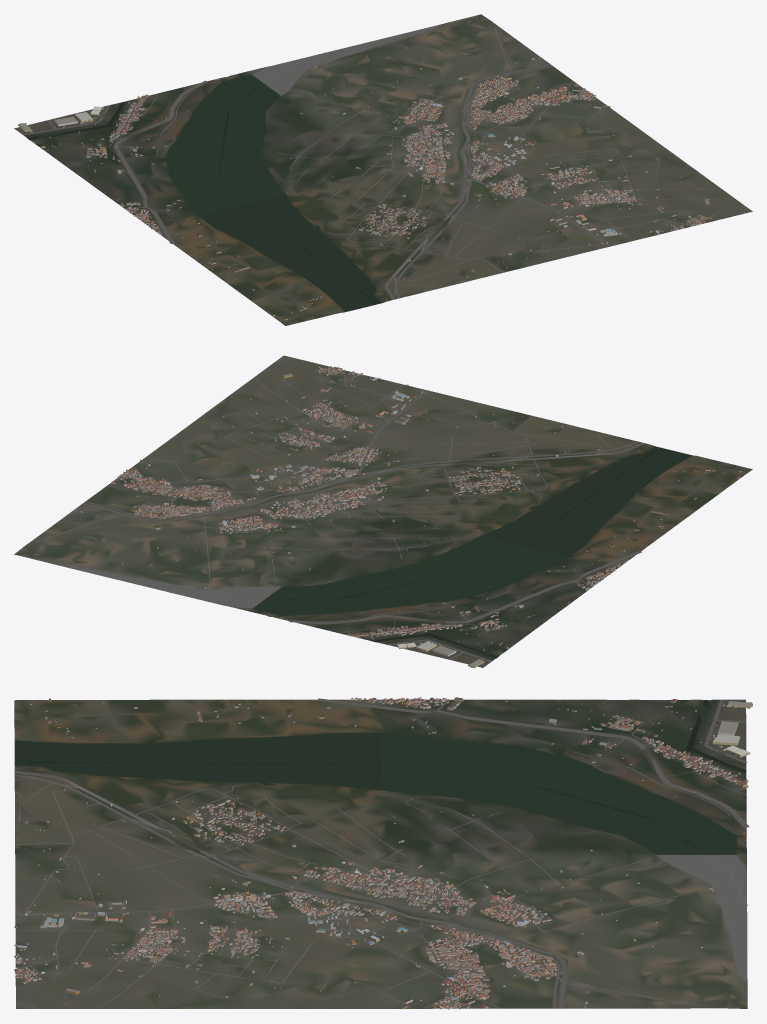
The picture shows the model from 3 angles, top to bottom: view 1: azimuth 30°, elevation 25°; view 2: azimuth 150°, elevation 25°; view 3: azimuth 270°, elevation 25°; orthographic projection. The views are drawn at different scales.
Visible parts, largest first — view 1: ground, water, buildings, roads; view 2: ground, water, buildings, roads; view 3: ground, water, buildings, roads.
Part boxes in pixels (bbox=[...]): ground: bbox=[14, 14, 752, 325]; water: bbox=[28, 24, 441, 311]; buildings: bbox=[18, 47, 712, 320]; roads: bbox=[22, 28, 744, 299]; ground: bbox=[14, 355, 752, 667]; water: bbox=[54, 446, 692, 657]; buildings: bbox=[74, 366, 741, 668]; roads: bbox=[36, 358, 644, 661]; ground: bbox=[14, 699, 747, 1008]; water: bbox=[14, 700, 747, 982]; buildings: bbox=[14, 697, 752, 1009]; roads: bbox=[14, 698, 749, 1008].
Bounding box in the file's own units: 2816 × 20.91 × 2832.
